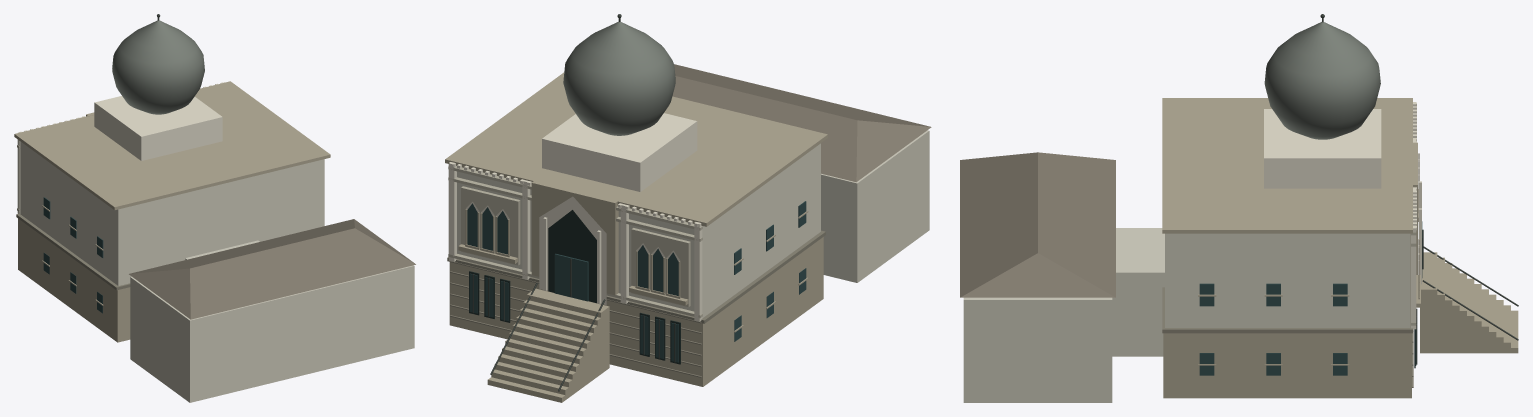
Rendered from Bursa-Ittihat-Terakki-Kulubu-tahmini.glb.
3 views of the same model, side by side, from view 1: azimuth 30°, elevation 25°; view 2: azimuth 150°, elevation 25°; view 3: azimuth 270°, elevation 25° (orthographic). The views are drawn at different scales.
Visible parts, largest first — view 1: IttihatTerakkiKulubu_Bursa_pre1934; view 2: IttihatTerakkiKulubu_Bursa_pre1934; view 3: IttihatTerakkiKulubu_Bursa_pre1934.
Boxes of the visible parts, x1=… form: IttihatTerakkiKulubu_Bursa_pre1934: x1=14, y1=14, x2=415, y2=402; IttihatTerakkiKulubu_Bursa_pre1934: x1=445, y1=14, x2=931, y2=402; IttihatTerakkiKulubu_Bursa_pre1934: x1=960, y1=14, x2=1518, y2=402.
Size of the model in its own units: 18.6 by 20.18 by 31.9.
